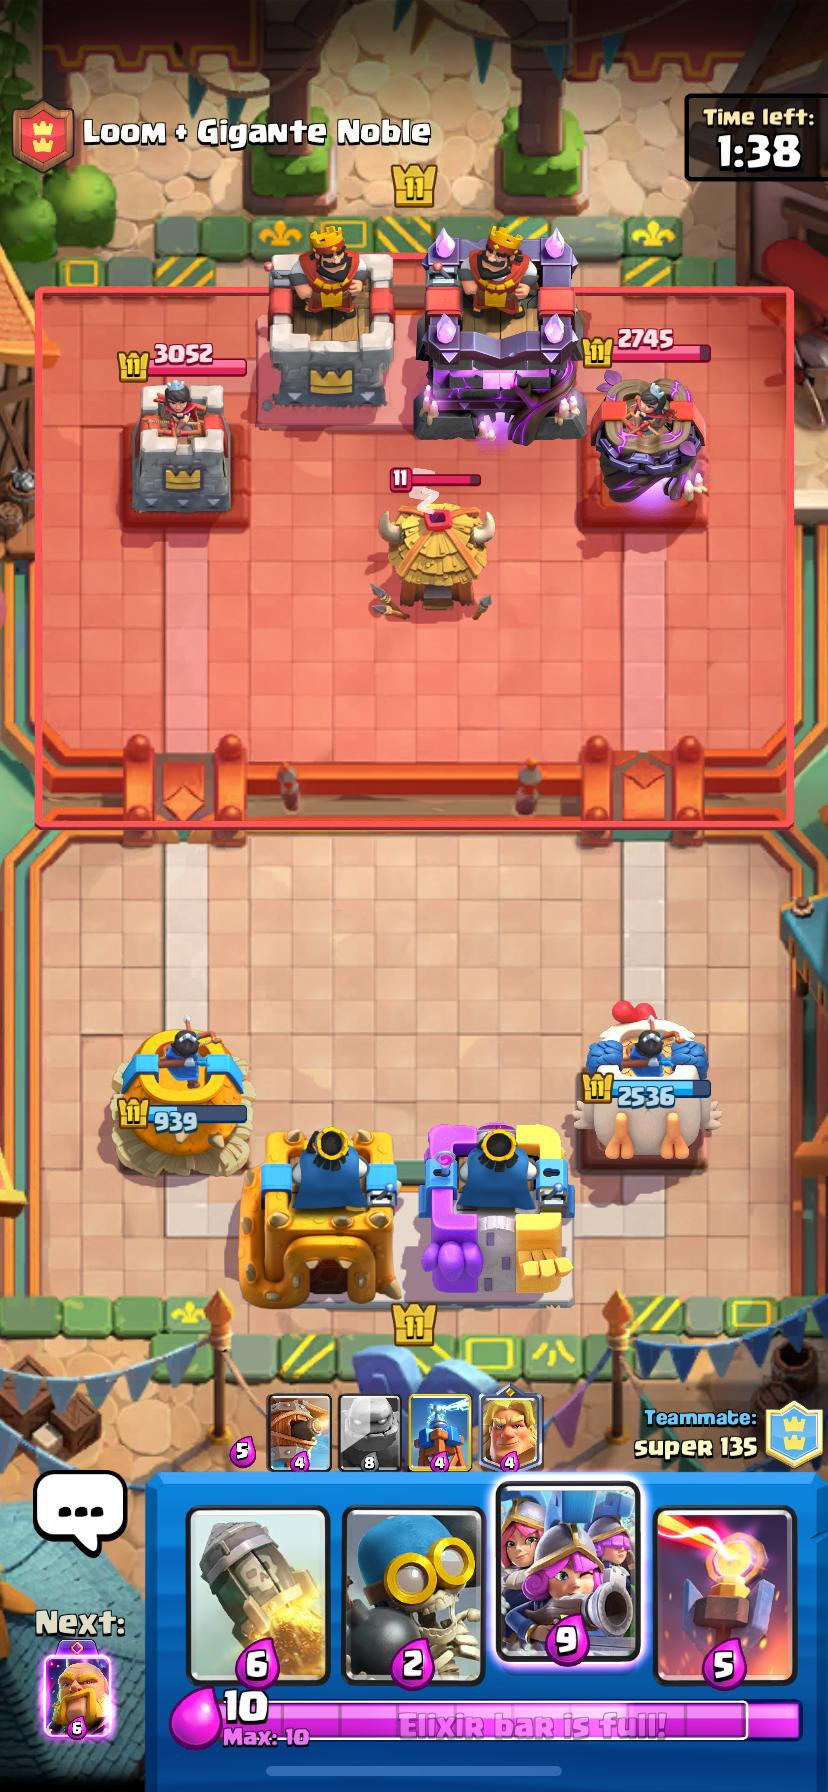EGoblinHut: (379, 496, 494, 616)
EKingTower: (414, 225, 586, 445), (262, 239, 393, 411)
EnemyPrincessTower: (583, 371, 706, 525), (132, 378, 231, 517)
OwnKingTower: (240, 1126, 403, 1306), (419, 1123, 573, 1301)
OwnPrincessTower: (576, 1001, 720, 1167), (111, 1019, 253, 1175)
